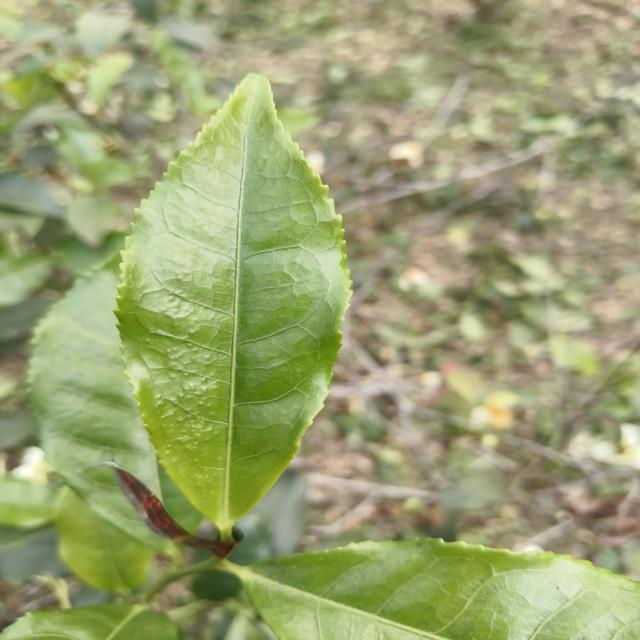Leaf: (115, 75, 349, 529), (28, 250, 168, 551), (237, 538, 640, 640), (55, 487, 153, 593), (0, 604, 178, 640), (0, 474, 59, 528), (66, 195, 122, 246), (0, 254, 52, 307), (76, 12, 129, 57)
